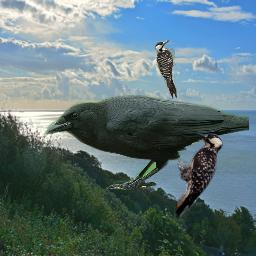Crow: (44, 95, 250, 192)
Woodpecker: (172, 131, 229, 222), (155, 40, 177, 99)
